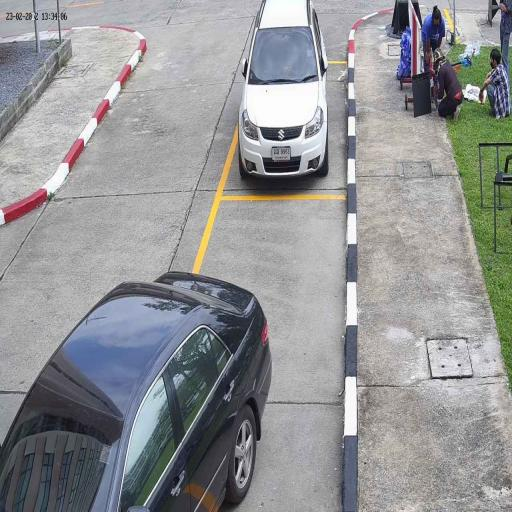car: (0, 269, 272, 512), (238, 0, 329, 184)
